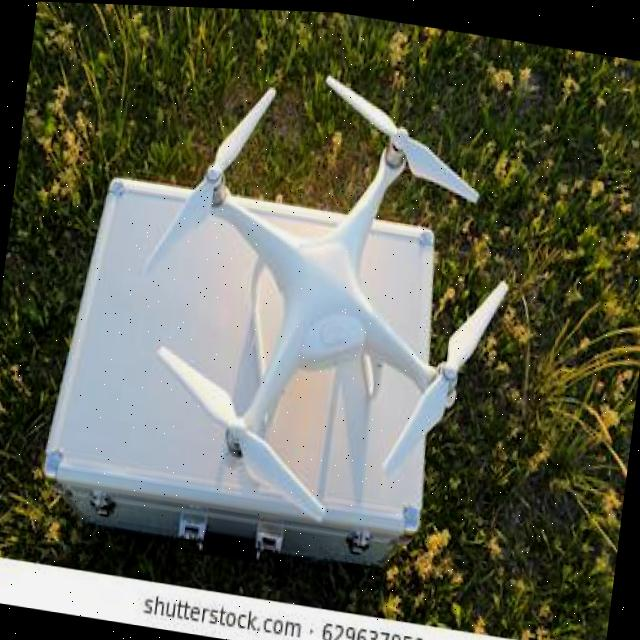drone: (0, 165, 640, 640)
